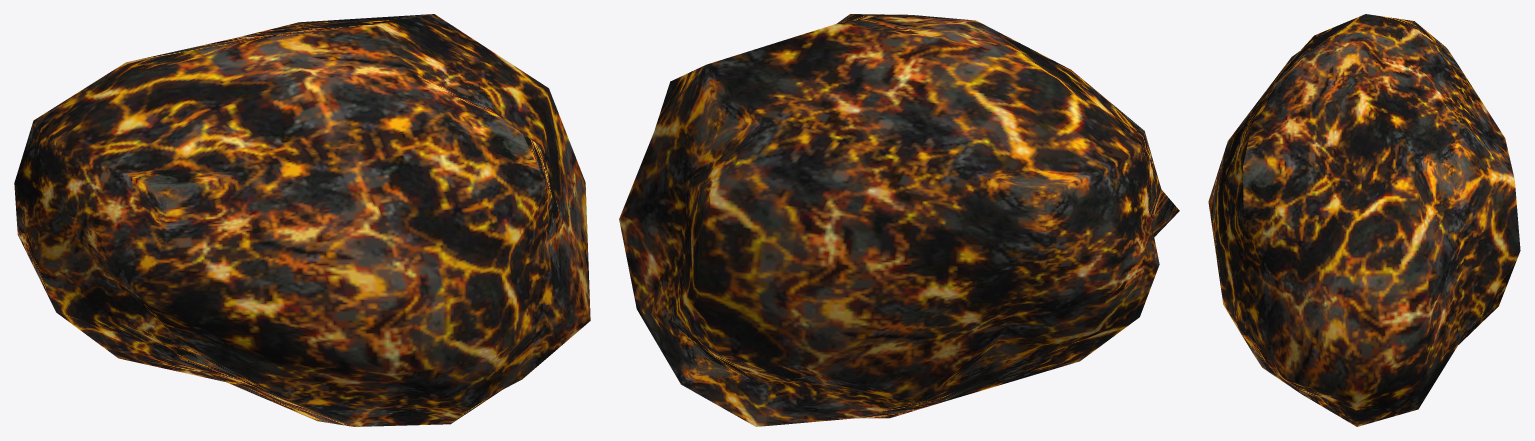
Rendered from asteroid_moltenrock_large_s01_l2.fbx.
3 renders of one model, left to right at view 1: azimuth 30°, elevation 25°; view 2: azimuth 150°, elevation 25°; view 3: azimuth 270°, elevation 25°, orthographic. The views are drawn at different scales.
Visible parts, largest first — view 1: mesh_node; view 2: mesh_node; view 3: mesh_node.
Part boxes in pixels (<box>): mesh_node: <box>14,14,590,426</box>; mesh_node: <box>619,14,1179,426</box>; mesh_node: <box>1208,14,1520,426</box>.
Bounding box in the file's own units: 150 × 110 × 102.
